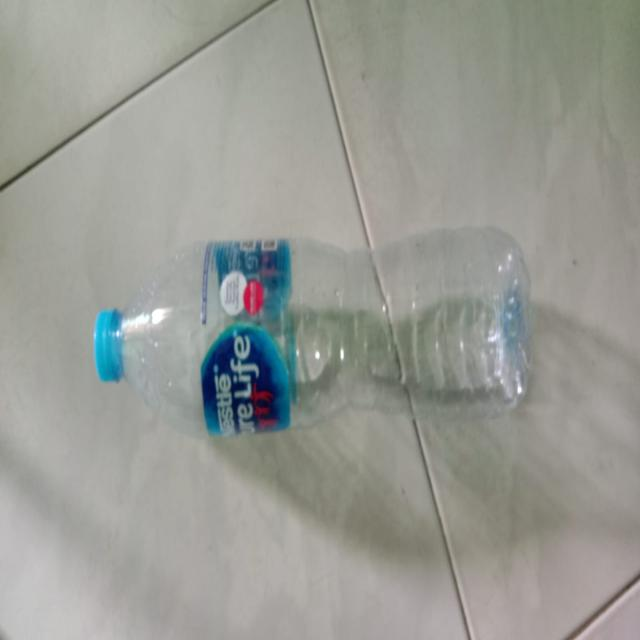botolminum: (54, 211, 578, 470)
